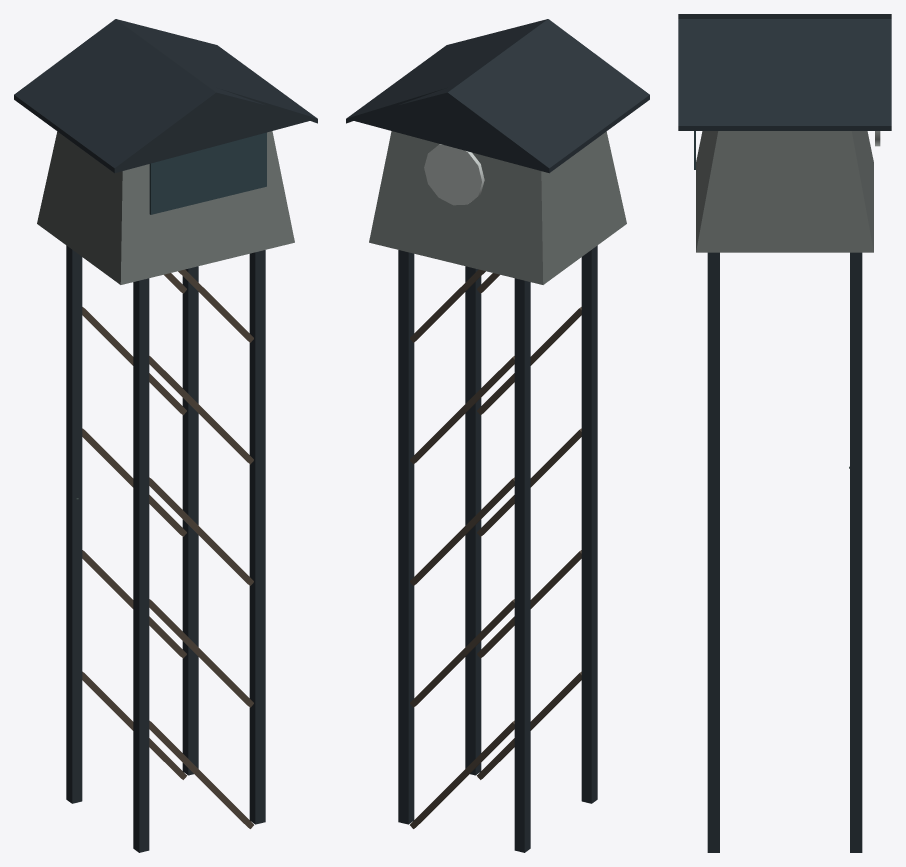
File: signal-tower-3.glb
The picture shows the model from 3 angles, left to right: view 1: azimuth 30°, elevation 25°; view 2: azimuth 150°, elevation 25°; view 3: azimuth 270°, elevation 25°; orthographic projection. The views are drawn at different scales.
Visible parts, largest first — view 1: signal-tower/2/KR-230-3; view 2: signal-tower/2/KR-230-3; view 3: signal-tower/2/KR-230-3.
Part boxes in pixels (bbox=[...]): signal-tower/2/KR-230-3: bbox=[14, 19, 317, 852]; signal-tower/2/KR-230-3: bbox=[346, 19, 649, 852]; signal-tower/2/KR-230-3: bbox=[678, 14, 891, 852].
Bounding box in the file's own units: 7 × 25.16 × 6.
